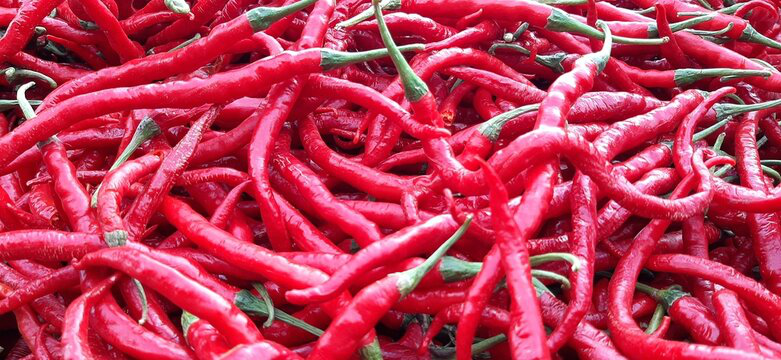Cabai: (239, 66, 540, 297)
